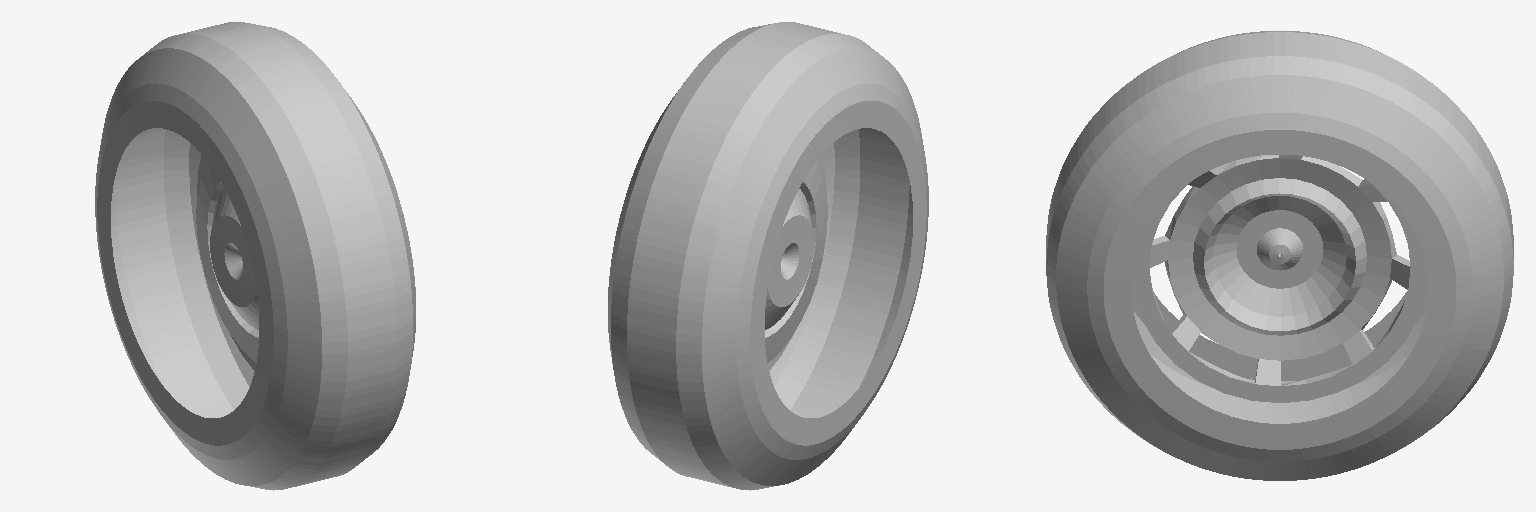
File: ruota.obj
The picture shows the model from 3 angles: view 1: azimuth 30°, elevation 25°; view 2: azimuth 150°, elevation 25°; view 3: azimuth 270°, elevation 25°; orthographic projection.
Parts seen in each view (by area): view 1: mesh03, mesh01; view 2: mesh03, mesh01; view 3: mesh03, mesh01.
Part boxes in pixels (x1,y1,x2,y2): mesh03: (95,22,415,490); mesh01: (196,155,258,370); mesh03: (608,22,928,490); mesh01: (765,155,827,370); mesh03: (1046,31,1513,480); mesh01: (1132,155,1427,402).
Bounding box in the file's own units: 0.1007 × 0.2878 × 0.2878.